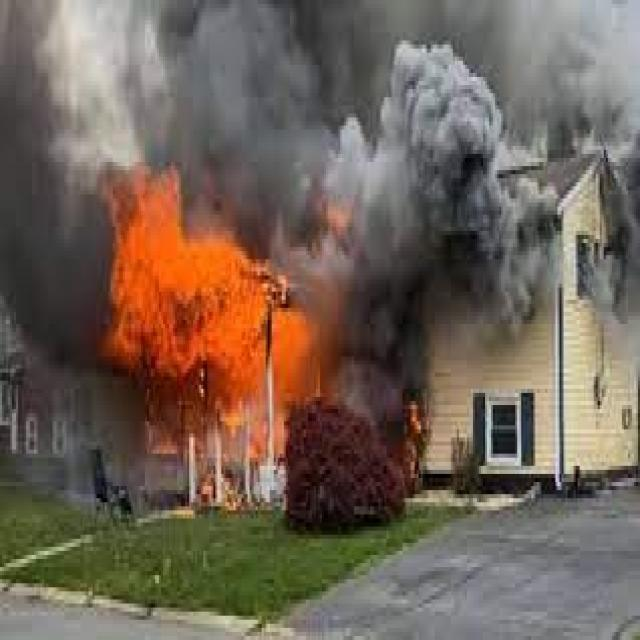Fire: (107, 174, 292, 398)
Smoke: (174, 0, 502, 238), (11, 2, 102, 359), (316, 186, 424, 401), (499, 0, 639, 158), (460, 186, 538, 331)
